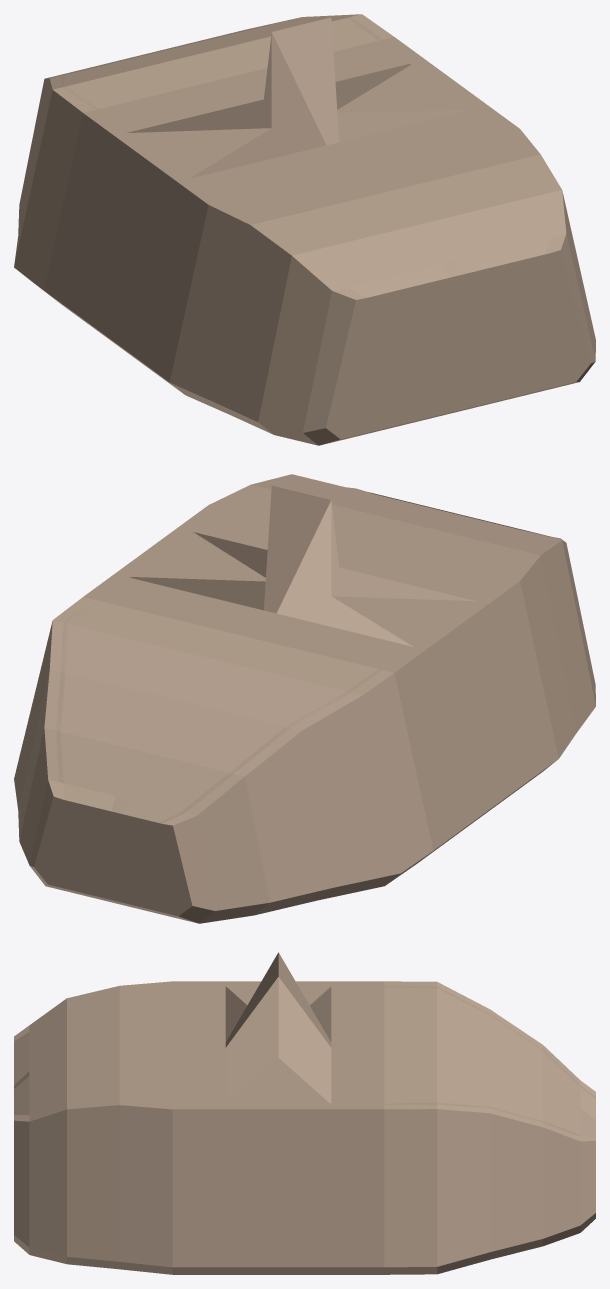
Rendered from orrin_scout_b.glb.
3 renders of one model, top to bottom at view 1: azimuth 30°, elevation 25°; view 2: azimuth 150°, elevation 25°; view 3: azimuth 270°, elevation 25°, orthographic. The views are drawn at different scales.
Visible parts, largest first — view 1: orrin_scout_b; view 2: orrin_scout_b; view 3: orrin_scout_b.
Part boxes in pixels (x1,y1,x2,y2): orrin_scout_b: (14,14,595,445); orrin_scout_b: (14,474,595,923); orrin_scout_b: (14,952,595,1274).
Size of the model in its own units: 2.8 by 1.93 by 4.3.
